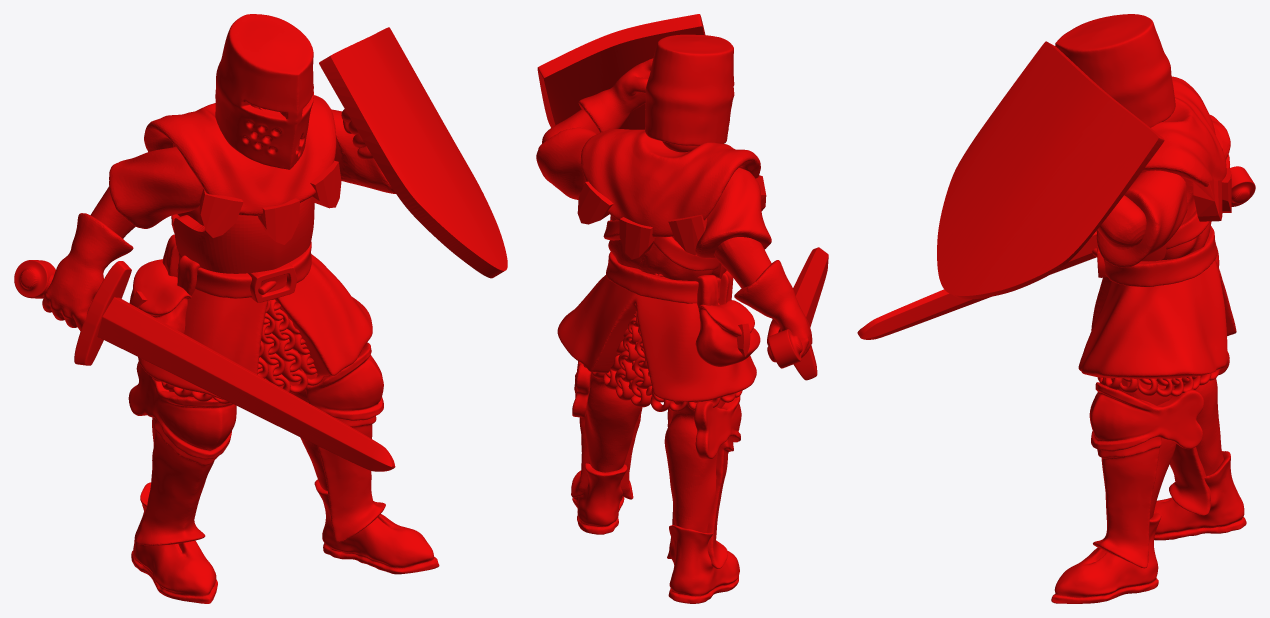
Rendered from caballeroIncorrecto.glb.
3 views of the same model, side by side, from view 1: azimuth 30°, elevation 25°; view 2: azimuth 150°, elevation 25°; view 3: azimuth 270°, elevation 25° (orthographic). The views are drawn at different scales.
Parts seen in each view (by area): view 1: shield; view 2: shield; view 3: shield.
Part boxes in pixels (x1,y1,x2,y2): shield: (14,14,507,603); shield: (536,14,828,603); shield: (857,14,1255,603).
Bounding box in the file's own units: 22.65 × 33.8 × 22.79.
